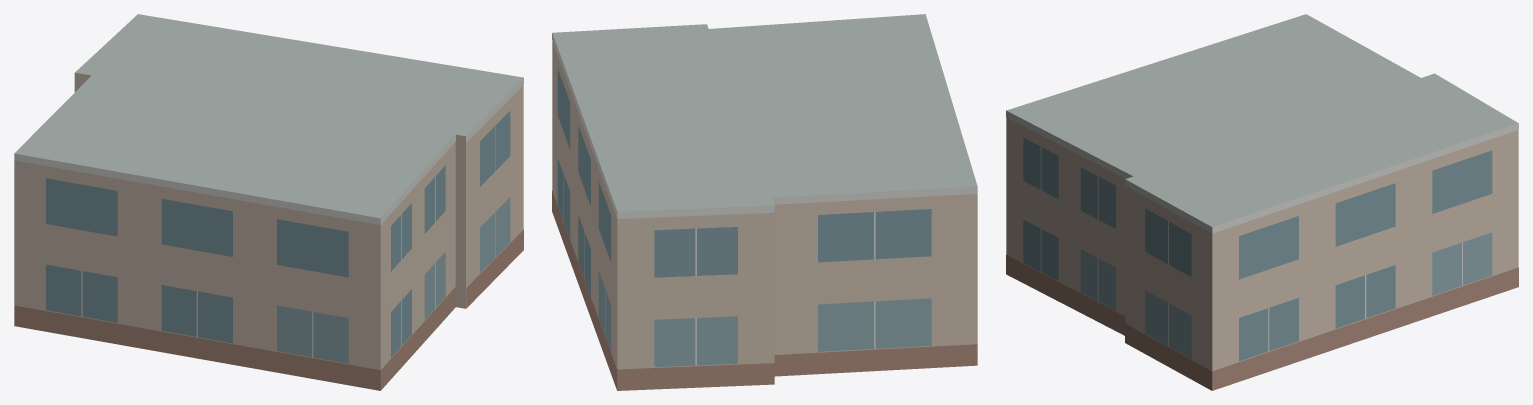
The model's file is survey-upis-32771197.glb.
3 renders of one model, left to right at view 1: azimuth 30°, elevation 25°; view 2: azimuth 150°, elevation 25°; view 3: azimuth 270°, elevation 25°, orthographic. The views are drawn at different scales.
Parts seen in each view (by area): view 1: survey-upis-32771197.tmp; view 2: survey-upis-32771197.tmp; view 3: survey-upis-32771197.tmp.
Boxes of the visible parts, left/top/right/bottom form: survey-upis-32771197.tmp: left=14, top=14, right=523, bottom=390; survey-upis-32771197.tmp: left=552, top=14, right=977, bottom=390; survey-upis-32771197.tmp: left=1006, top=14, right=1518, bottom=390.
Size of the model in its own units: 17.03 by 6.1 by 17.31.
